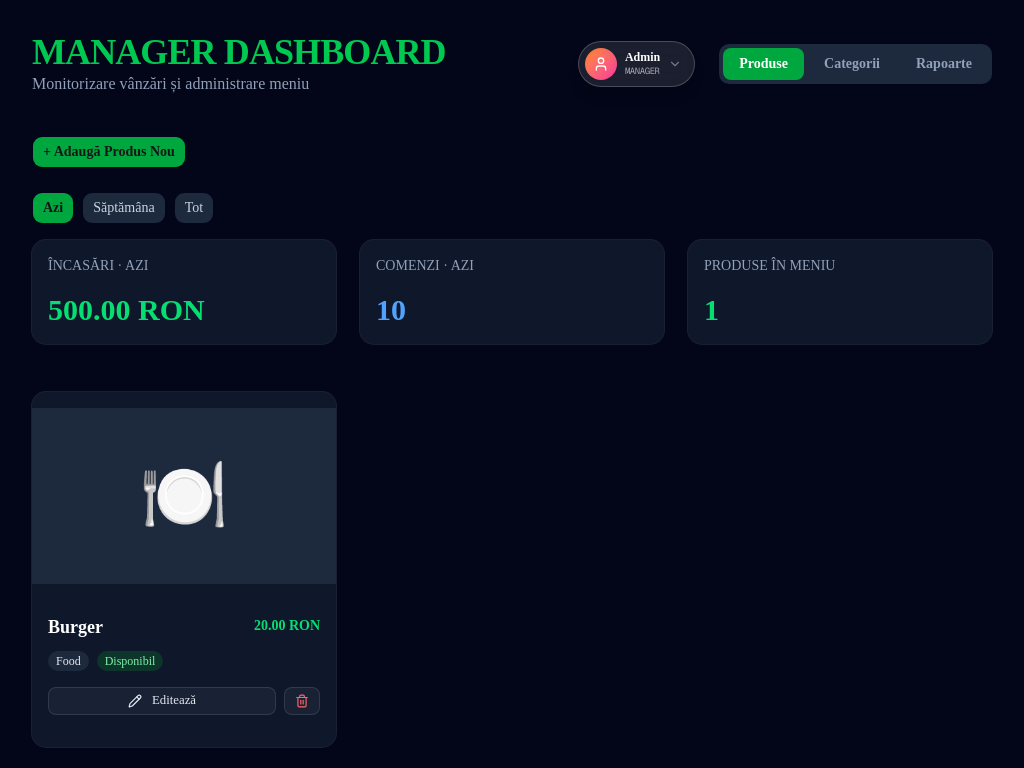
Manager Dashboard › can open add product modal
Expected: the heading "Burger" is shown, [48,616,103,638]
Step 1. Click the button "+ Adaugă Produs Nou" → (109, 152), box [32,136,186,168]
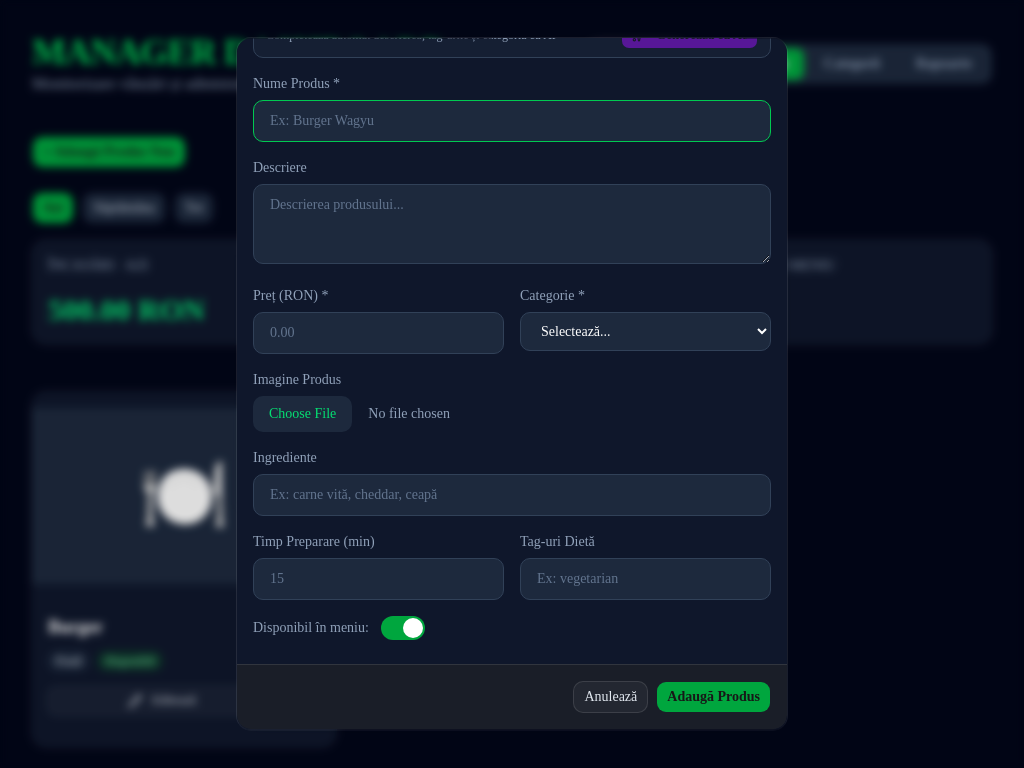
Now the text "Nume Produs *" is shown, box [253,76,340,91]
Now the button "Adaugă Produs" is shown, box [656,681,771,713]
